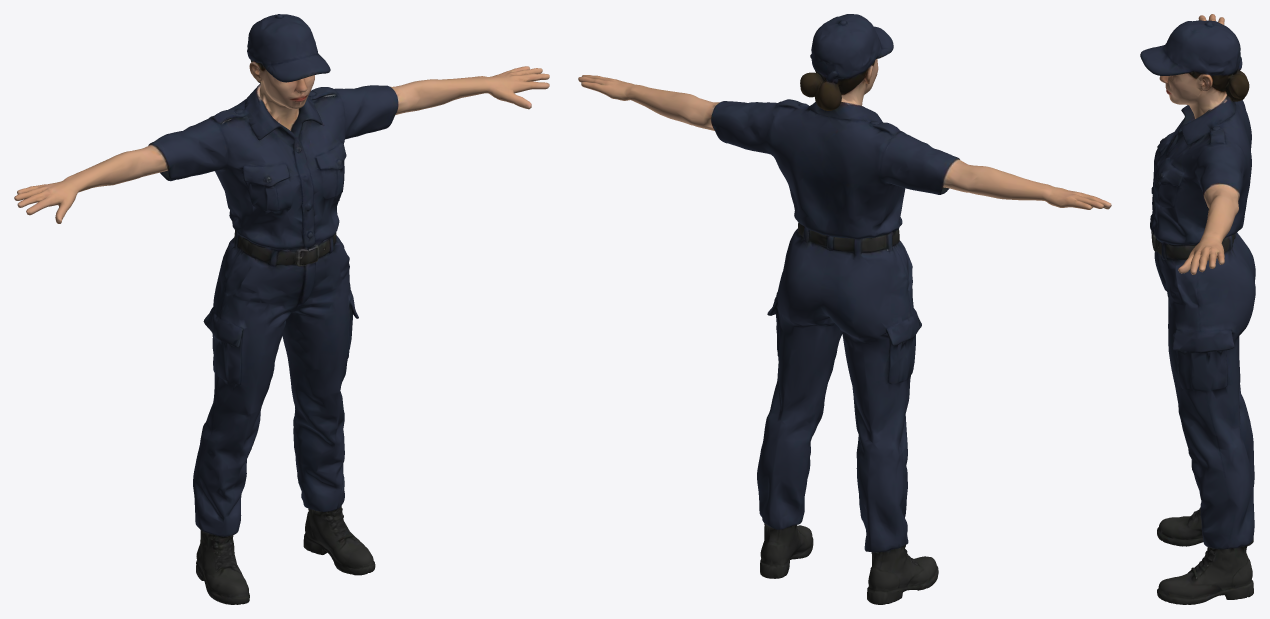
The model's file is guard.glb.
The picture shows the model from 3 angles, left to right: view 1: azimuth 30°, elevation 25°; view 2: azimuth 150°, elevation 25°; view 3: azimuth 270°, elevation 25°; orthographic projection. The views are drawn at different scales.
Visible parts, largest first — view 1: tripo_node_d8dff7dd-faee-46e4-93d6-ebce8a7ee3aa; view 2: tripo_node_d8dff7dd-faee-46e4-93d6-ebce8a7ee3aa; view 3: tripo_node_d8dff7dd-faee-46e4-93d6-ebce8a7ee3aa.
Part boxes in pixels (x1=…): tripo_node_d8dff7dd-faee-46e4-93d6-ebce8a7ee3aa: x1=14, y1=14, x2=549, y2=604; tripo_node_d8dff7dd-faee-46e4-93d6-ebce8a7ee3aa: x1=578, y1=14, x2=1111, y2=604; tripo_node_d8dff7dd-faee-46e4-93d6-ebce8a7ee3aa: x1=1140, y1=14, x2=1255, y2=604.
Bounding box in the file's own units: 1.69 × 1.7 × 0.3255.
Materials: 1 (1 with a texture image).
